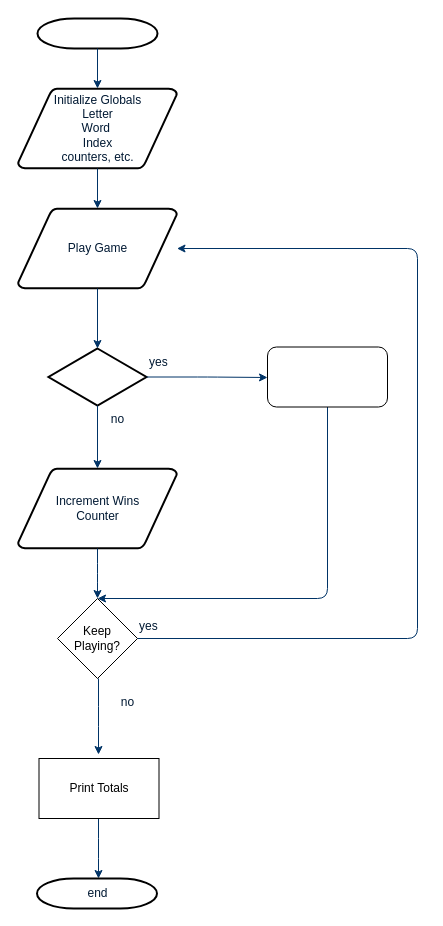
The diagram is 443 pixels wide and 926 high, and some of its shapes have lost their labels. Each missing label, with the centre of its shape:
Game Lost?: (x=97, y=376)
Increment Lost Counter: (x=327, y=376)
start: (x=97, y=33)
